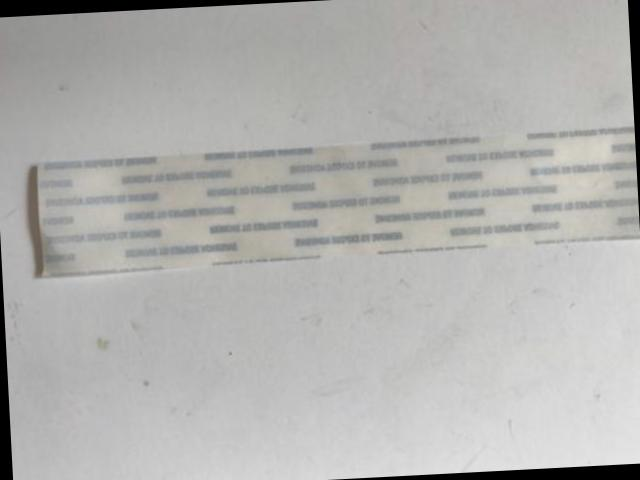cardboard paper: (39, 127, 640, 277)
